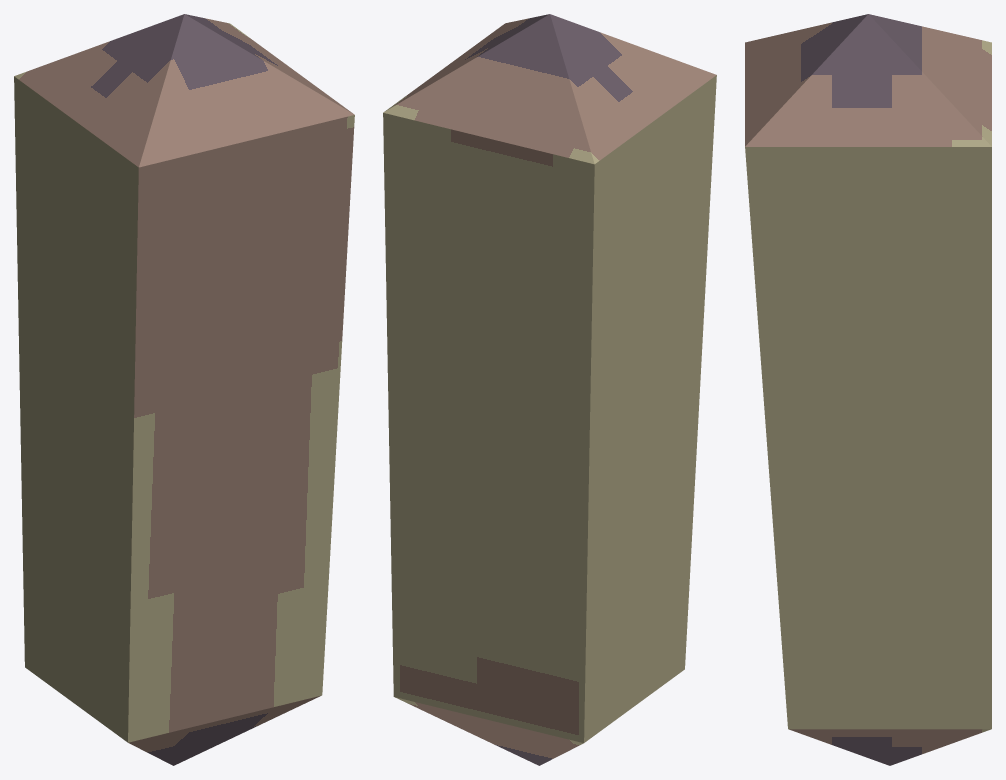
Rendered from character_shin.glb.
3 views of the same model, side by side, from view 1: azimuth 30°, elevation 25°; view 2: azimuth 150°, elevation 25°; view 3: azimuth 270°, elevation 25° (orthographic). The views are drawn at different scales.
Visible parts, largest first — view 1: Cube.055; view 2: Cube.055; view 3: Cube.055.
Boxes of the visible parts, x1,y1,x2,y2 form: Cube.055: [14, 14, 354, 765]; Cube.055: [383, 14, 716, 765]; Cube.055: [745, 14, 991, 765].
Bounding box in the file's own units: 0.8339 × 2.8 × 0.8339.
1 material, 1 textured.
